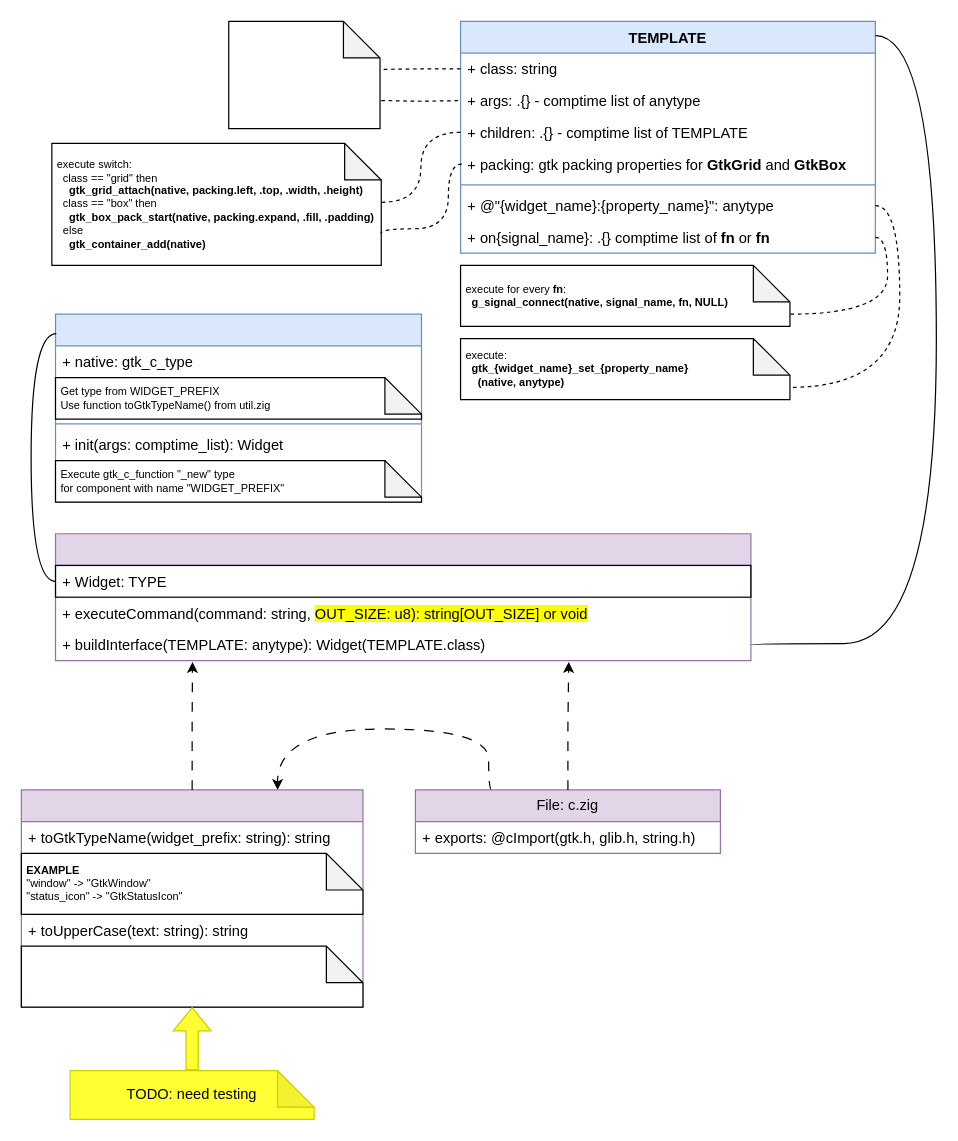
The diagram is 958 pixels wide and 1141 high, and some of its shapes have lost their labels. Each missing label, with the box of its shape:
EXAMPLE "someword" -> "SOMEWORD" TODO: more examples: (20, 945, 363, 1007)
execute: gtk_{class}_new(...args): (228, 20, 380, 129)
File: root.zig: (54, 533, 751, 661)
File: util.zig: (20, 789, 363, 1007)
Widget(WIDGET_PREFIX: string): (54, 313, 422, 502)
